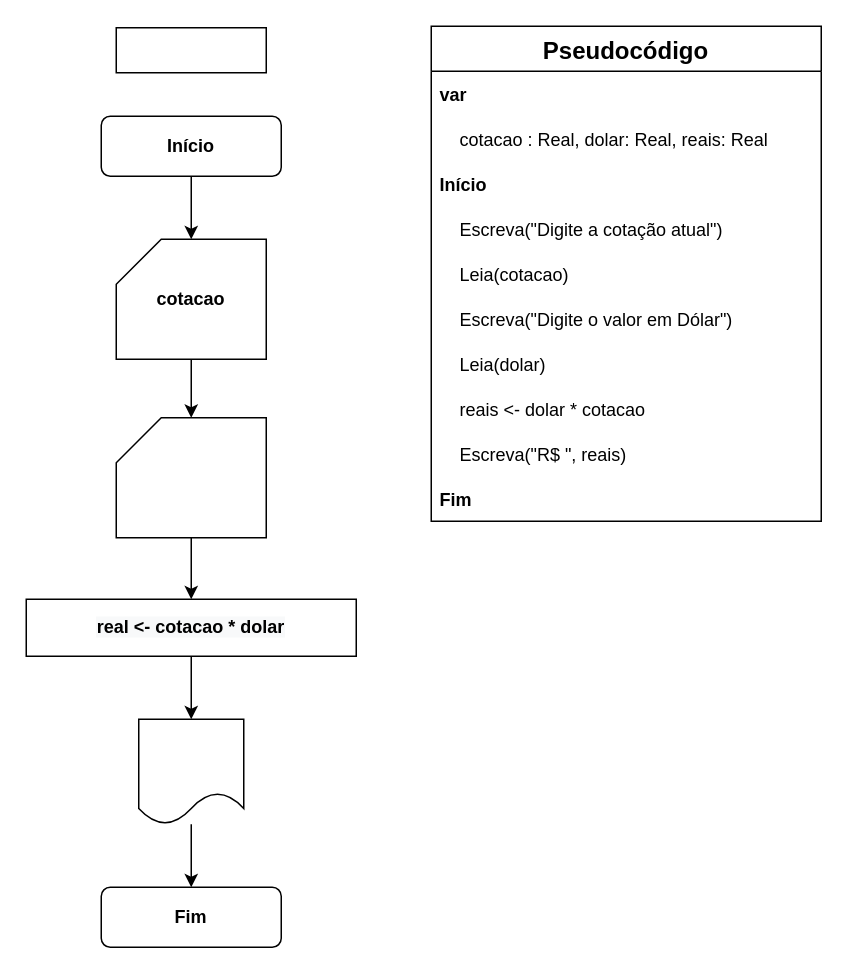
Some shapes in this 848 by 974 pixel diagram are drawn without their labels. Here are the shapes that lost their labels. From the top down, the centre of each, then its label:
At (190,49): "Diagrama".
At (190,477): "dolar".
At (190,771): "reais".
